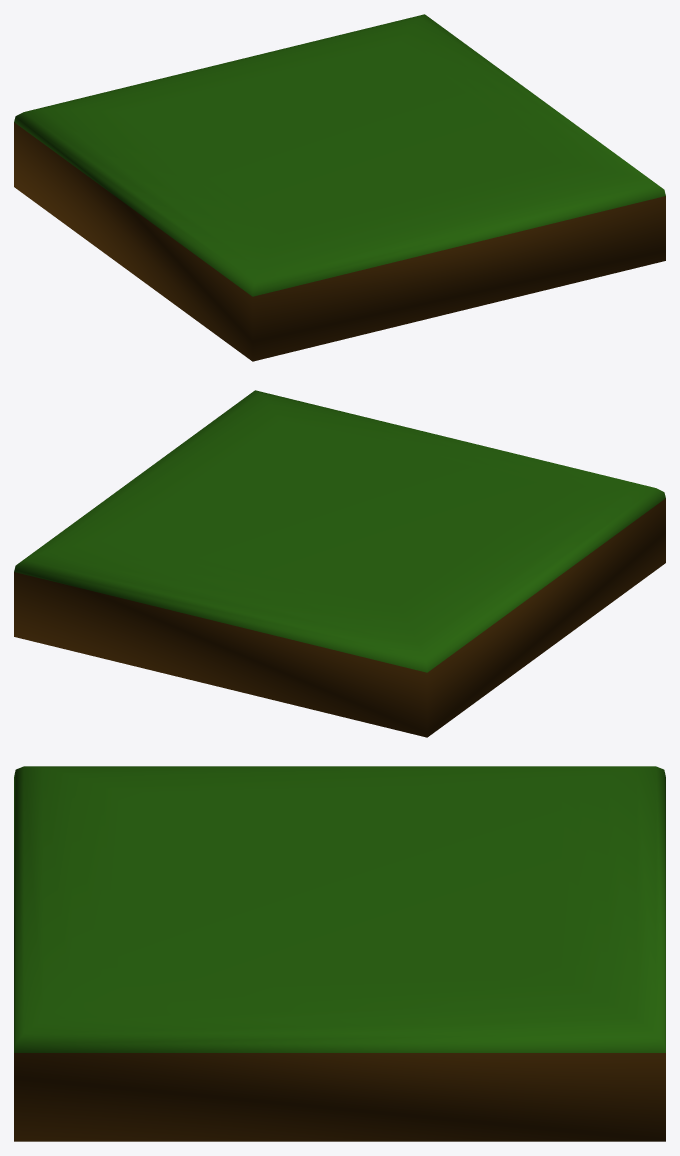
File: grasstile1.glb
3 views of the same model, one above another, from view 1: azimuth 30°, elevation 25°; view 2: azimuth 150°, elevation 25°; view 3: azimuth 270°, elevation 25° (orthographic). The views are drawn at different scales.
Visible parts, largest first — view 1: Cube; view 2: Cube; view 3: Cube.
Boxes of the visible parts, x1=… form: Cube: x1=14, y1=14, x2=665, y2=361; Cube: x1=14, y1=390, x2=665, y2=737; Cube: x1=14, y1=766, x2=665, y2=1141.
Size of the model in its own units: 2 by 0.4 by 2.
Materials: 1 (1 with a texture image).
